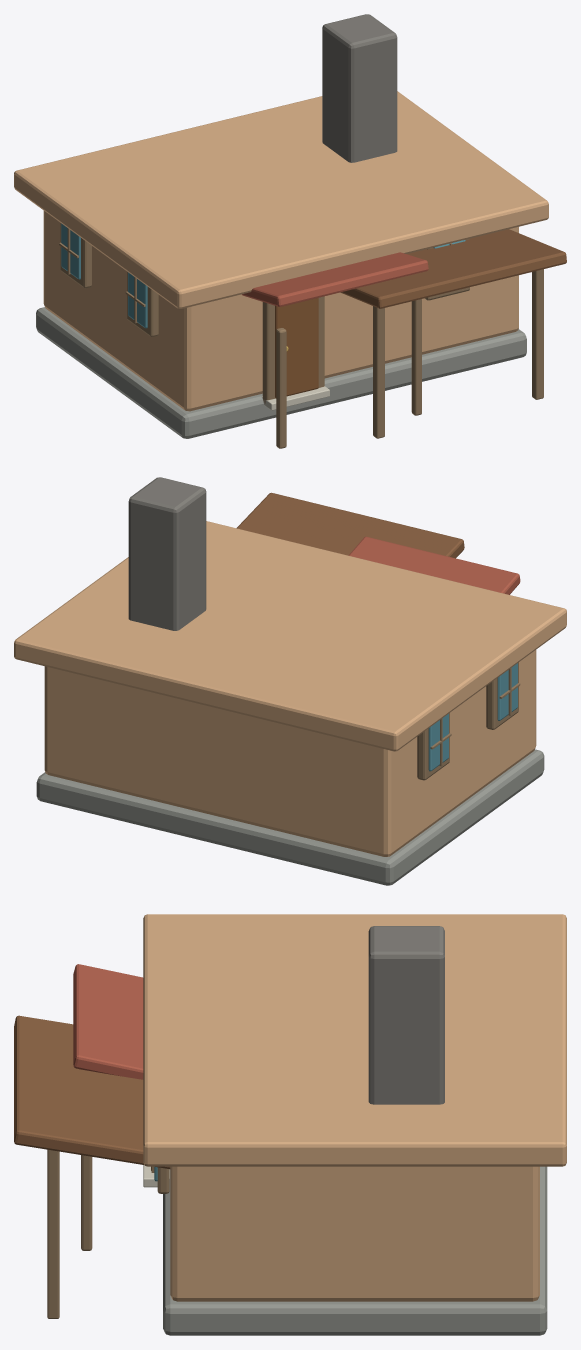
File: arid-workshop-1.glb
The picture shows the model from 3 angles, top to bottom: view 1: azimuth 30°, elevation 25°; view 2: azimuth 150°, elevation 25°; view 3: azimuth 270°, elevation 25°; orthographic projection. The views are drawn at different scales.
Parts seen in each view (by area): view 1: Adobe cream, Adobe fieldstone, Foundation stone, Soot stone, Palm beams, Wood shingles, Clay tiles, Door oak, Blue glass, Cut limestone; view 2: Adobe cream, Adobe fieldstone, Foundation stone, Soot stone, Wood shingles, Clay tiles, Palm beams, Blue glass; view 3: Adobe cream, Adobe fieldstone, Foundation stone, Wood shingles, Soot stone, Clay tiles, Palm beams.
Boxes of the visible parts, x1,y1,x2,y2 form: Adobe cream: [14, 91, 548, 308]; Adobe fieldstone: [43, 211, 518, 411]; Foundation stone: [36, 307, 526, 438]; Soot stone: [322, 14, 397, 162]; Palm beams: [59, 223, 543, 448]; Wood shingles: [340, 229, 566, 308]; Clay tiles: [242, 252, 428, 306]; Door oak: [275, 298, 318, 398]; Blue glass: [61, 223, 465, 328]; Cut limestone: [261, 386, 329, 410]; Adobe cream: [14, 521, 566, 751]; Adobe fieldstone: [44, 650, 536, 856]; Foundation stone: [36, 749, 544, 885]; Soot stone: [128, 477, 206, 630]; Wood shingles: [236, 492, 464, 558]; Clay tiles: [348, 536, 520, 594]; Palm beams: [417, 662, 520, 780]; Blue glass: [428, 663, 517, 771]; Adobe cream: [143, 914, 566, 1166]; Adobe fieldstone: [170, 1166, 539, 1301]; Foundation stone: [163, 1166, 547, 1335]; Wood shingles: [14, 1015, 170, 1168]; Soot stone: [368, 926, 444, 1104]; Clay tiles: [73, 964, 143, 1079]; Palm beams: [47, 1149, 169, 1318].
Bounding box in the file's own units: 4.44 × 3.17 × 4.49.
